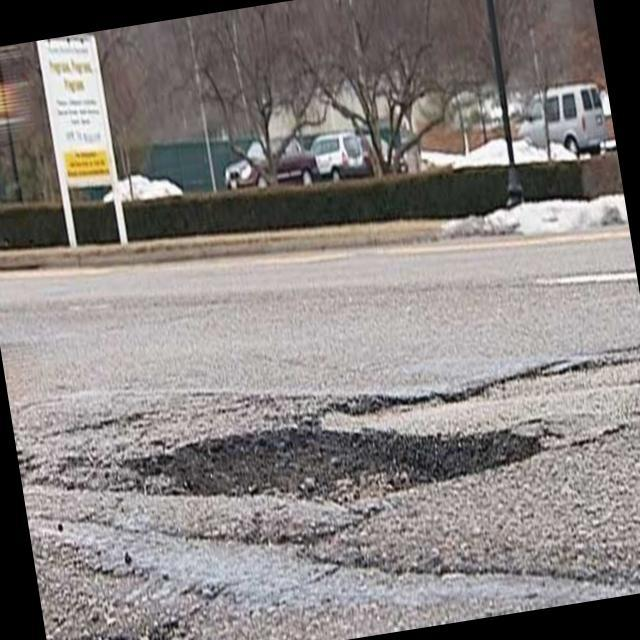Pothole: (90, 369, 552, 550), (42, 587, 191, 640)
